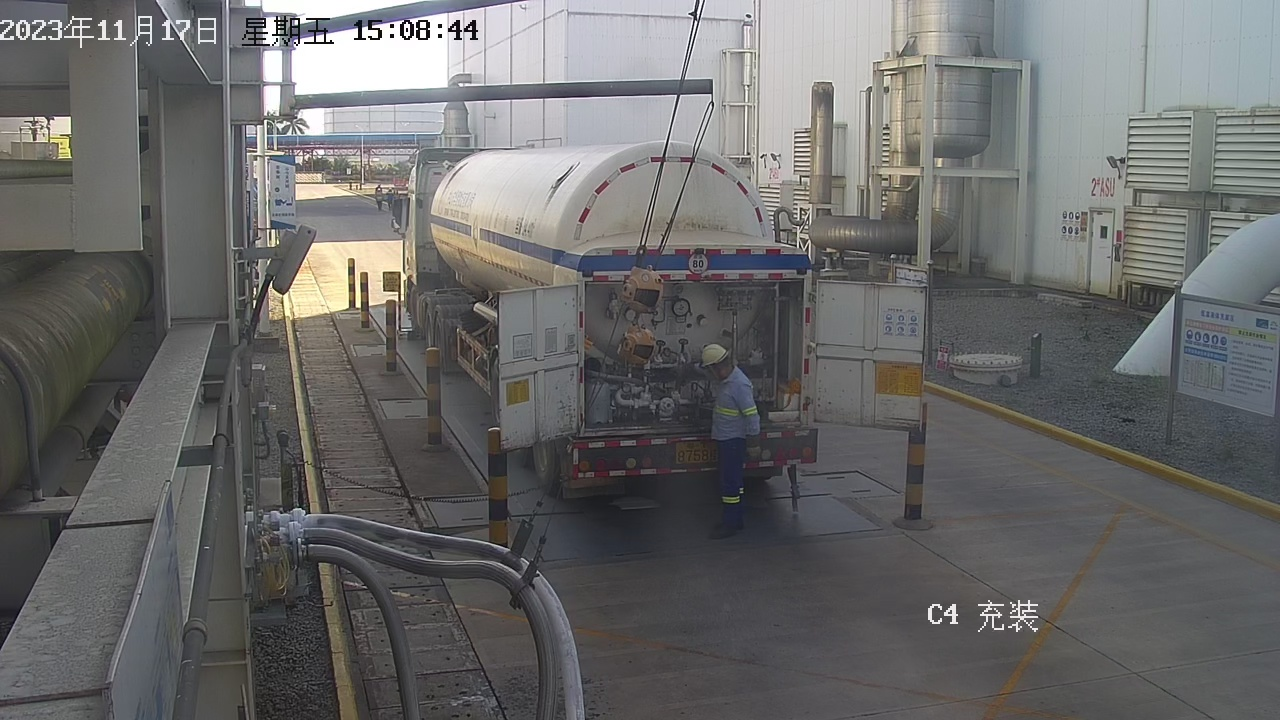Head_with_Helmet: (679, 332, 752, 379), (374, 186, 382, 193), (387, 186, 394, 192)
Uniform: (667, 363, 791, 549), (369, 190, 386, 210), (383, 190, 397, 212)
